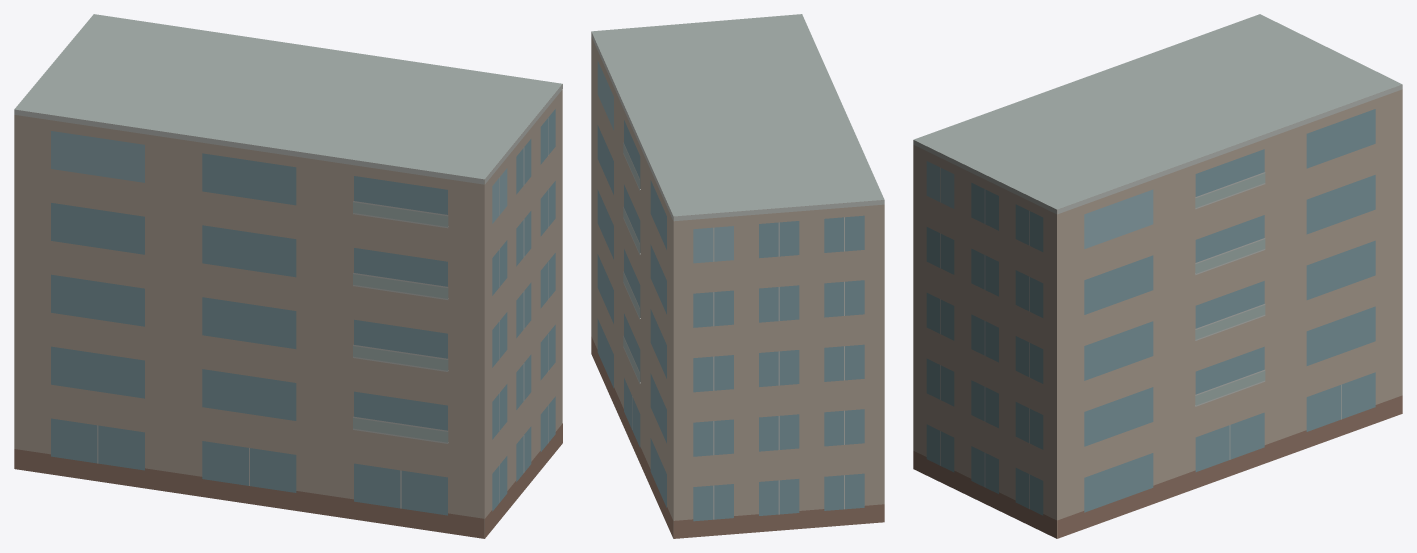
The model's file is survey-upis-32636585.glb.
The picture shows the model from 3 angles, left to right: view 1: azimuth 30°, elevation 25°; view 2: azimuth 150°, elevation 25°; view 3: azimuth 270°, elevation 25°; orthographic projection. The views are drawn at different scales.
Visible parts, largest first — view 1: survey-upis-32636585.tmp; view 2: survey-upis-32636585.tmp; view 3: survey-upis-32636585.tmp.
Part boxes in pixels (x1,y1,x2,y2): survey-upis-32636585.tmp: (14, 14, 562, 538); survey-upis-32636585.tmp: (591, 14, 884, 538); survey-upis-32636585.tmp: (913, 14, 1402, 538).
Bounding box in the file's own units: 21.04 × 16.5 × 22.24.
